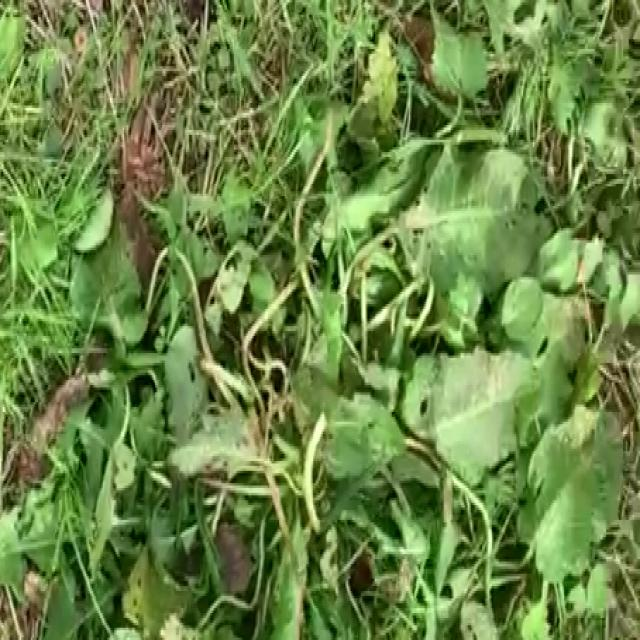organic waste: (96, 71, 640, 640)
